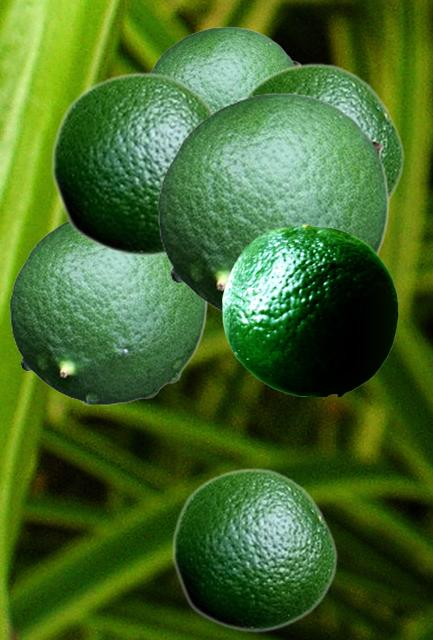calamansi: (157, 92, 388, 314), (9, 220, 206, 404), (50, 71, 214, 257), (222, 223, 397, 395), (171, 467, 337, 632), (240, 62, 404, 202), (149, 26, 301, 109)
